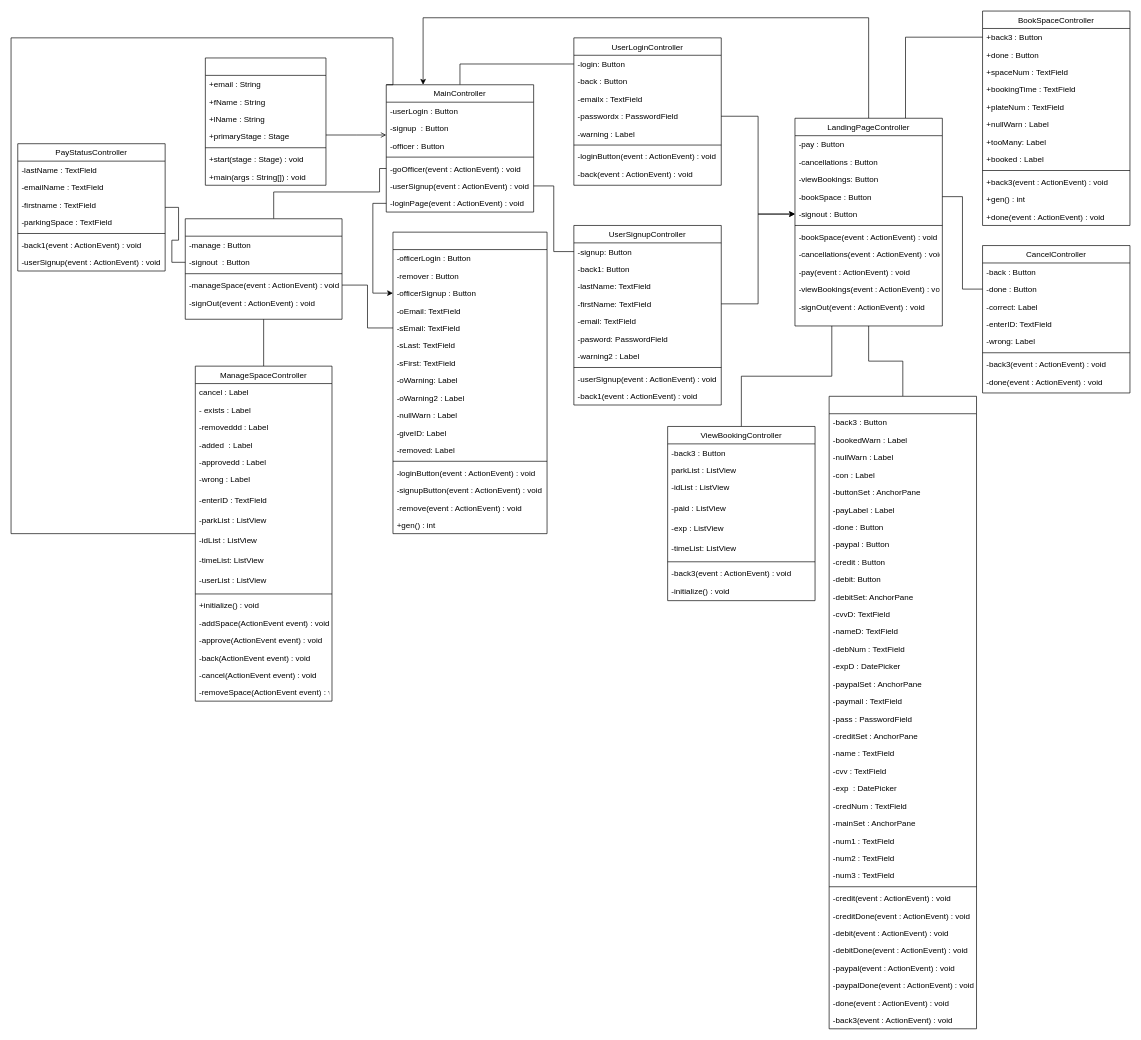
The diagram is 1141 pixels wide and 1040 high, and some of its shapes have lost their labels. Each missing label, with the box of its shape:
OfficerController: (392, 231, 547, 534)
OfficerPageController: (185, 218, 342, 319)
PayController: (828, 396, 977, 1029)
Run: (205, 57, 326, 185)
